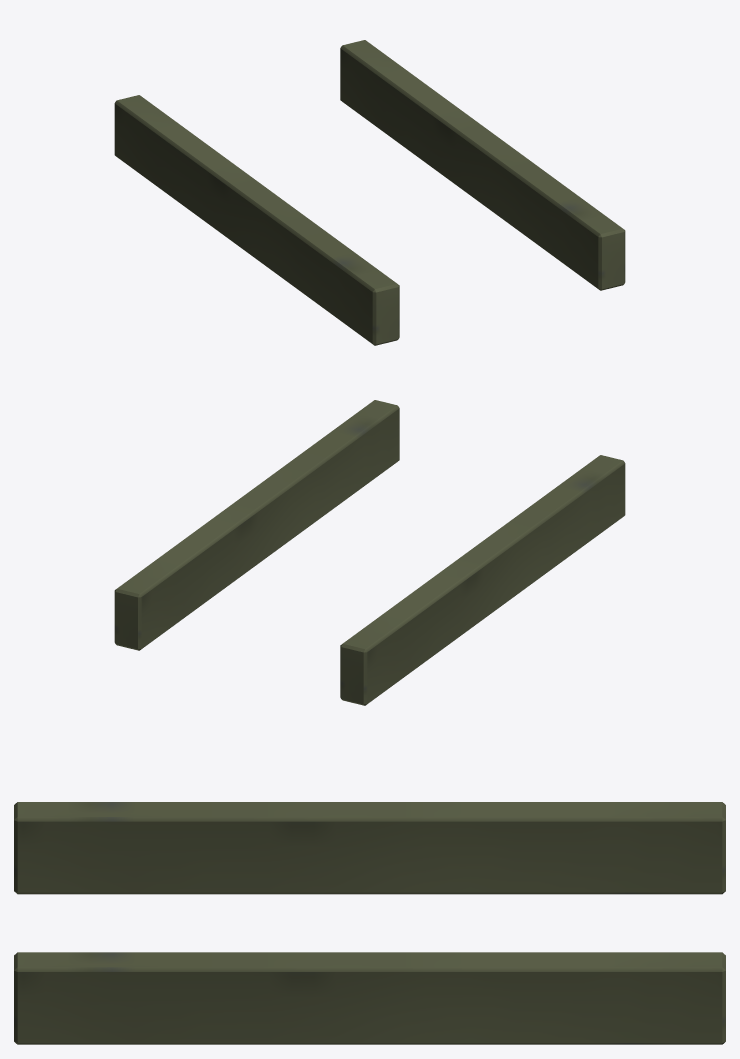
The model's file is ceiling_bunker_joists.glb.
3 views of the same model, one above another, from view 1: azimuth 30°, elevation 25°; view 2: azimuth 150°, elevation 25°; view 3: azimuth 270°, elevation 25° (orthographic). The views are drawn at different scales.
Parts seen in each view (by area): view 1: ceiling_bunker_joists; view 2: ceiling_bunker_joists; view 3: ceiling_bunker_joists.
Part boxes in pixels (x1=…): ceiling_bunker_joists: x1=114, y1=40, x2=625, y2=345; ceiling_bunker_joists: x1=114, y1=400, x2=625, y2=705; ceiling_bunker_joists: x1=14, y1=802, x2=725, y2=1044.
Size of the model in its own units: 2 by 0.24 by 2.
Materials: 1 (1 with a texture image).
